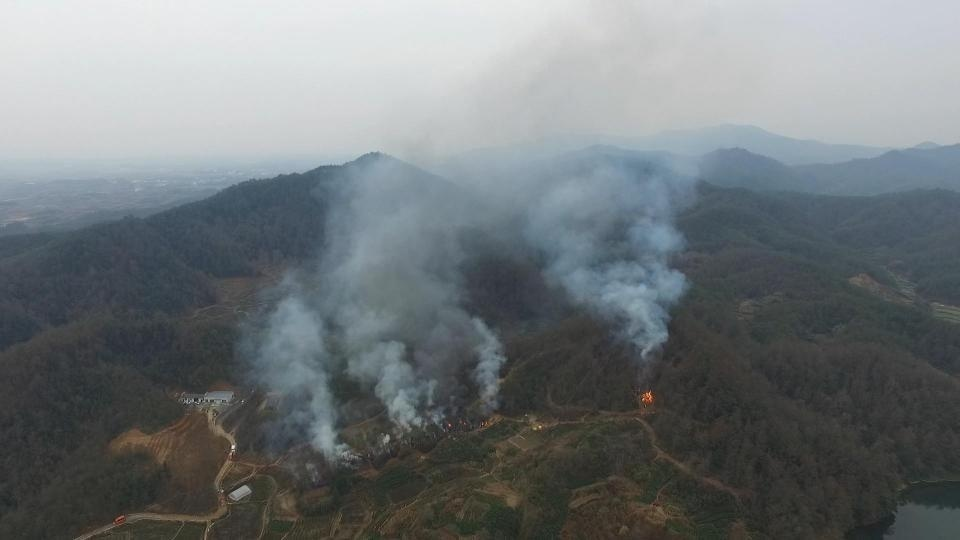fire: (616, 378, 665, 421)
